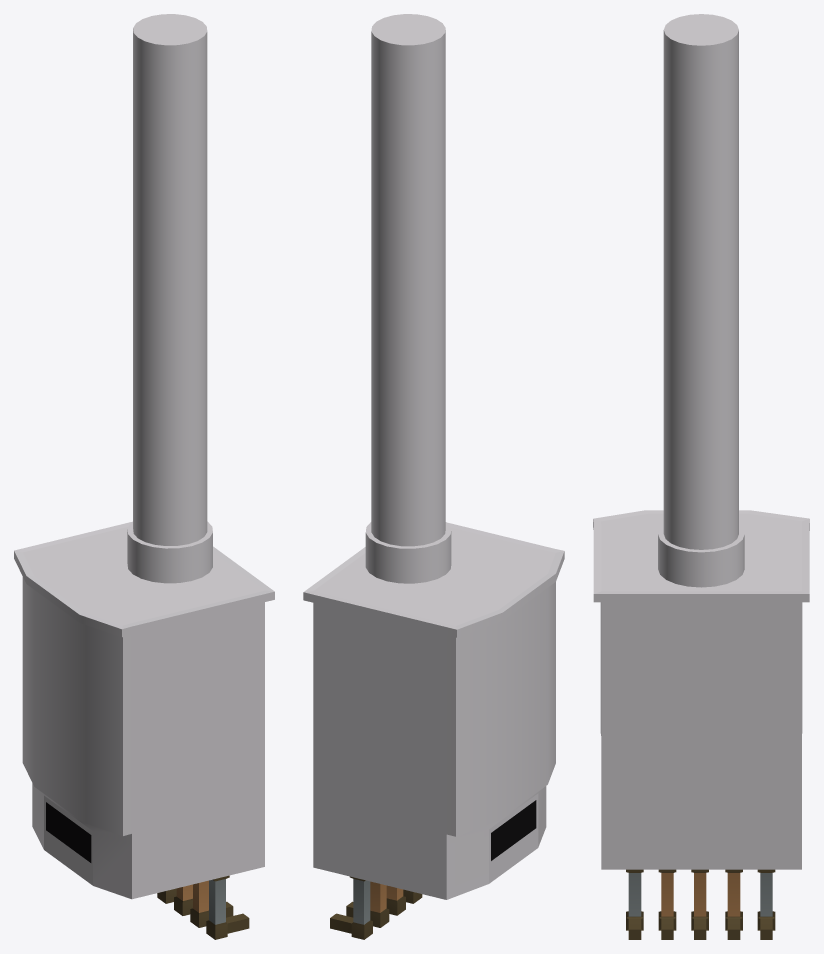
Rendered from 02cvketel_nieuwestijl.fbx.
The picture shows the model from 3 angles, left to right: view 1: azimuth 30°, elevation 25°; view 2: azimuth 150°, elevation 25°; view 3: azimuth 270°, elevation 25°; orthographic projection.
Visible parts, largest first — view 1: pCube418; view 2: pCube418; view 3: pCube418.
Boxes of the visible parts, <box> form: pCube418: <box>14,14,274,939</box>; pCube418: <box>303,14,564,939</box>; pCube418: <box>593,14,809,939</box>.
Bounding box in the file's own units: 0.9871 × 4.9 × 1.08.
